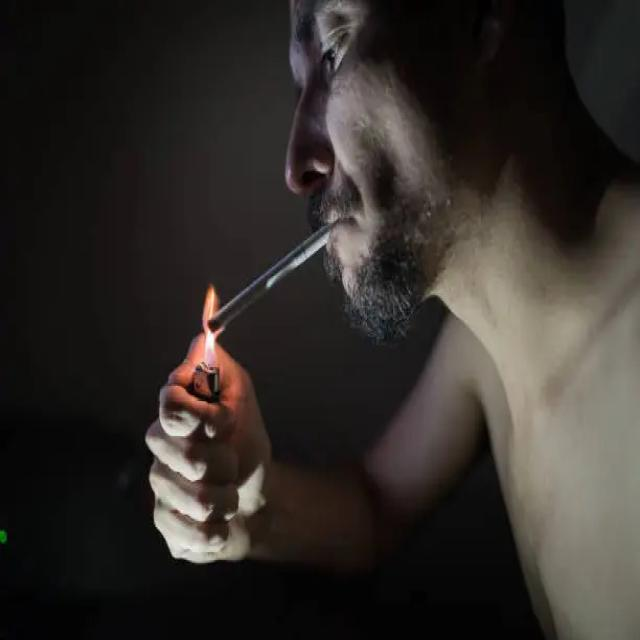fire: (202, 285, 217, 371)
